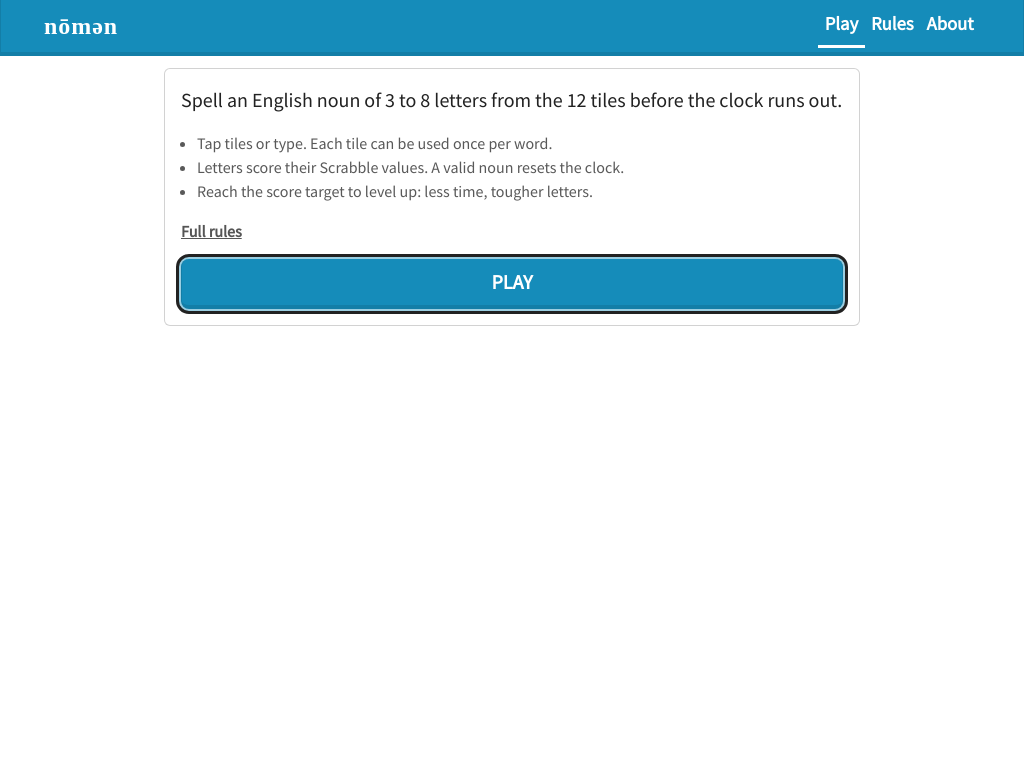
Test: User Story 2: race the clock › keeps running, without penalty, after an invalid word
Click the button "Play" at (512, 284), box [181,259,843,309]
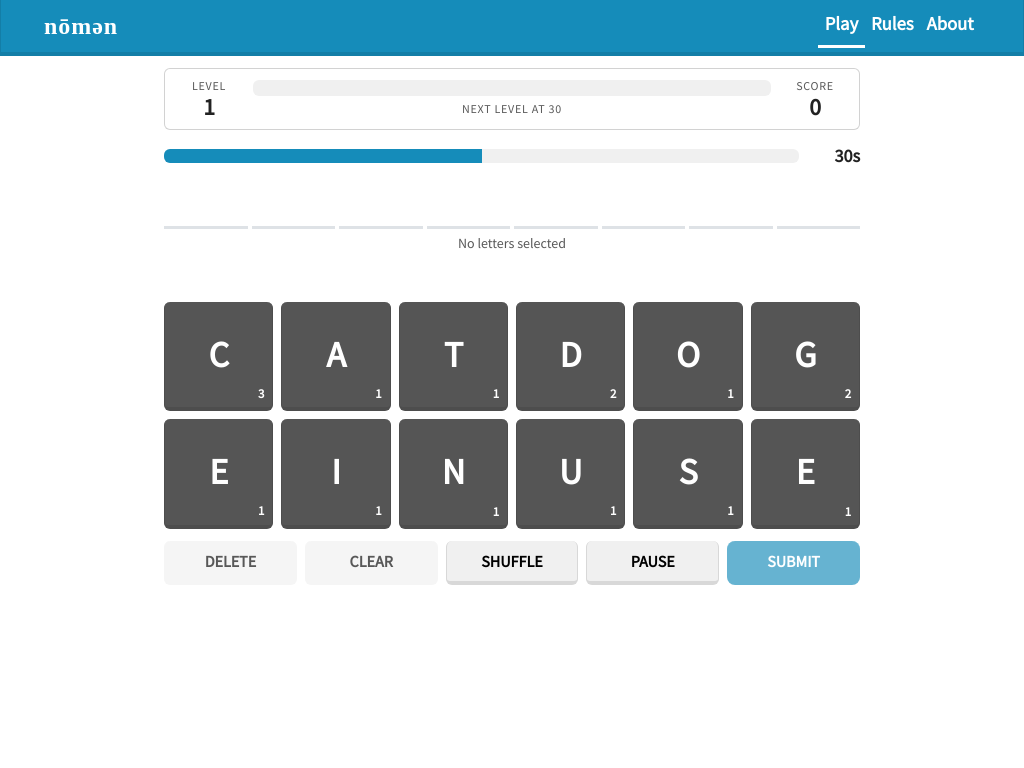
Check: the text "30s" is shown, box [834,144,860,167]
Type keys "ate{Enter}"
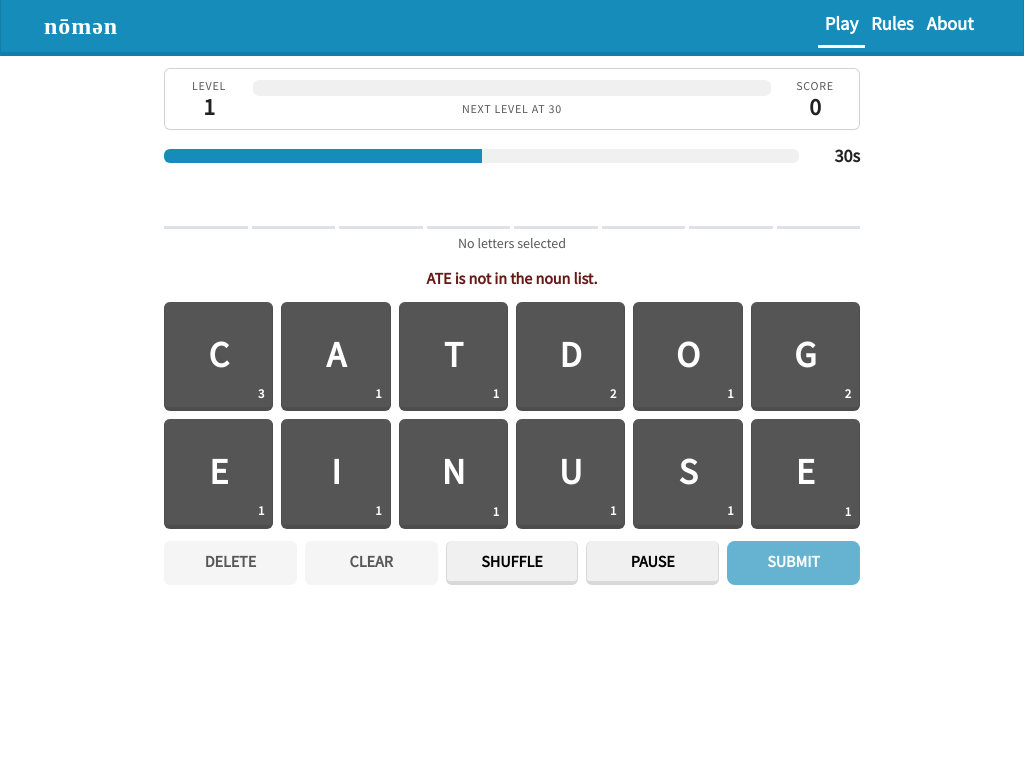
Check: the element named "Time remaining" reads "30s", box [164,142,860,169]
Check: the message reads "ATE is not in the noun list.", box [427,268,597,288]
